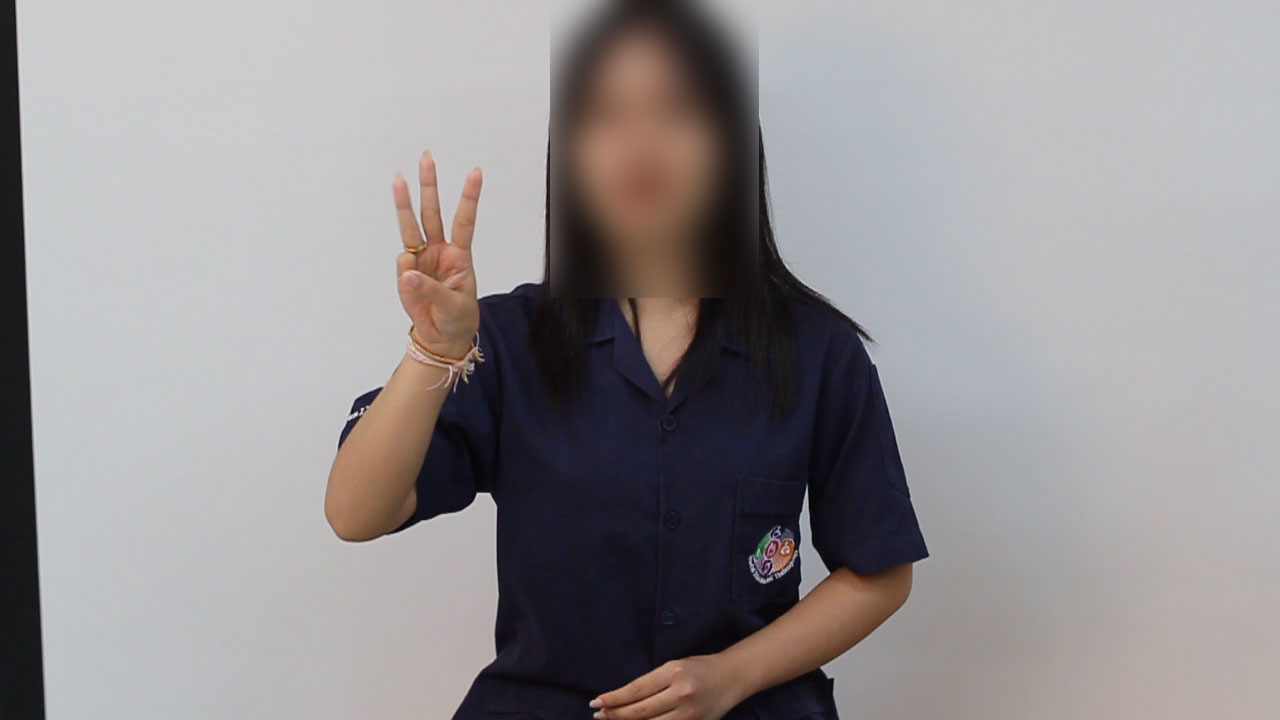wor: (385, 144, 489, 363)
